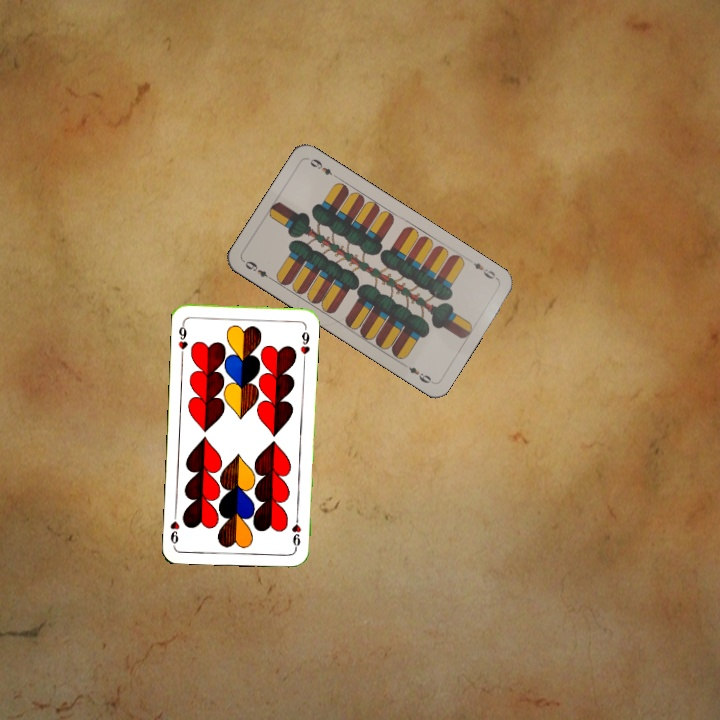E9: (465, 255, 501, 283), (240, 257, 276, 284)
H9: (174, 318, 190, 359), (288, 511, 303, 552)
